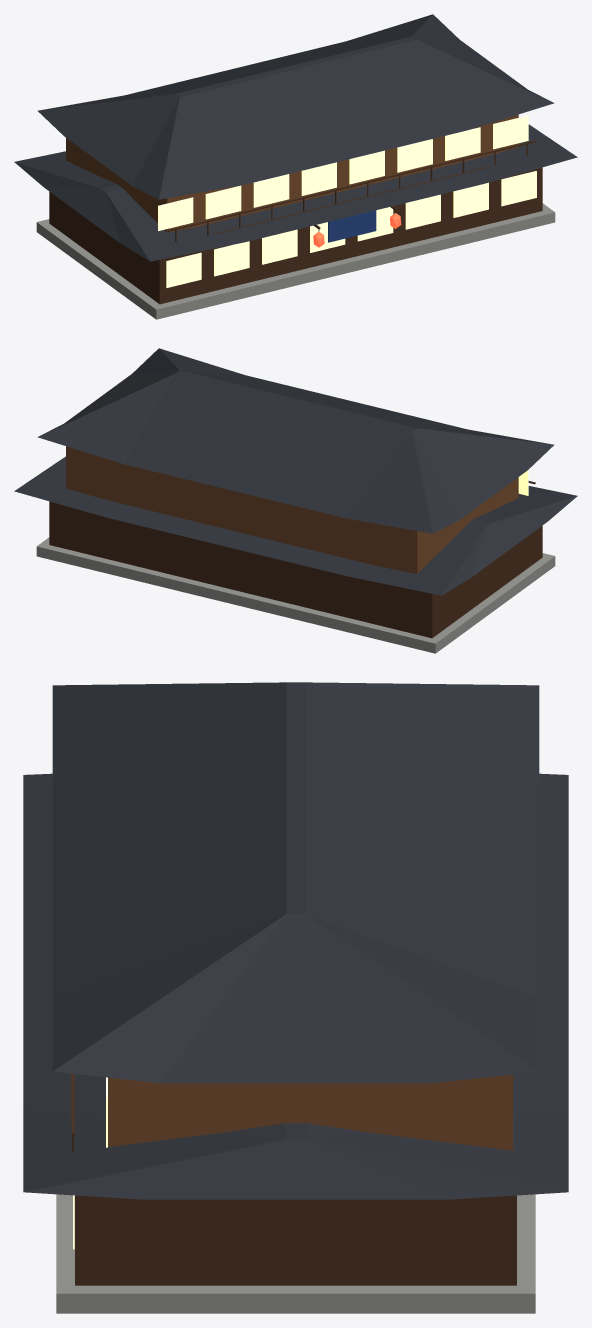
The model's file is ryokan.glb.
3 views of the same model, one above another, from view 1: azimuth 30°, elevation 25°; view 2: azimuth 150°, elevation 25°; view 3: azimuth 270°, elevation 25° (orthographic). The views are drawn at different scales.
Visible parts, largest first — view 1: ryokan; view 2: ryokan; view 3: ryokan.
Part boxes in pixels (x1,y1,x2,y2): ryokan: (14,14,577,319); ryokan: (14,348,577,653); ryokan: (23,682,568,1313).
Size of the model in its own units: 26.8 by 9.6 by 14.8.
